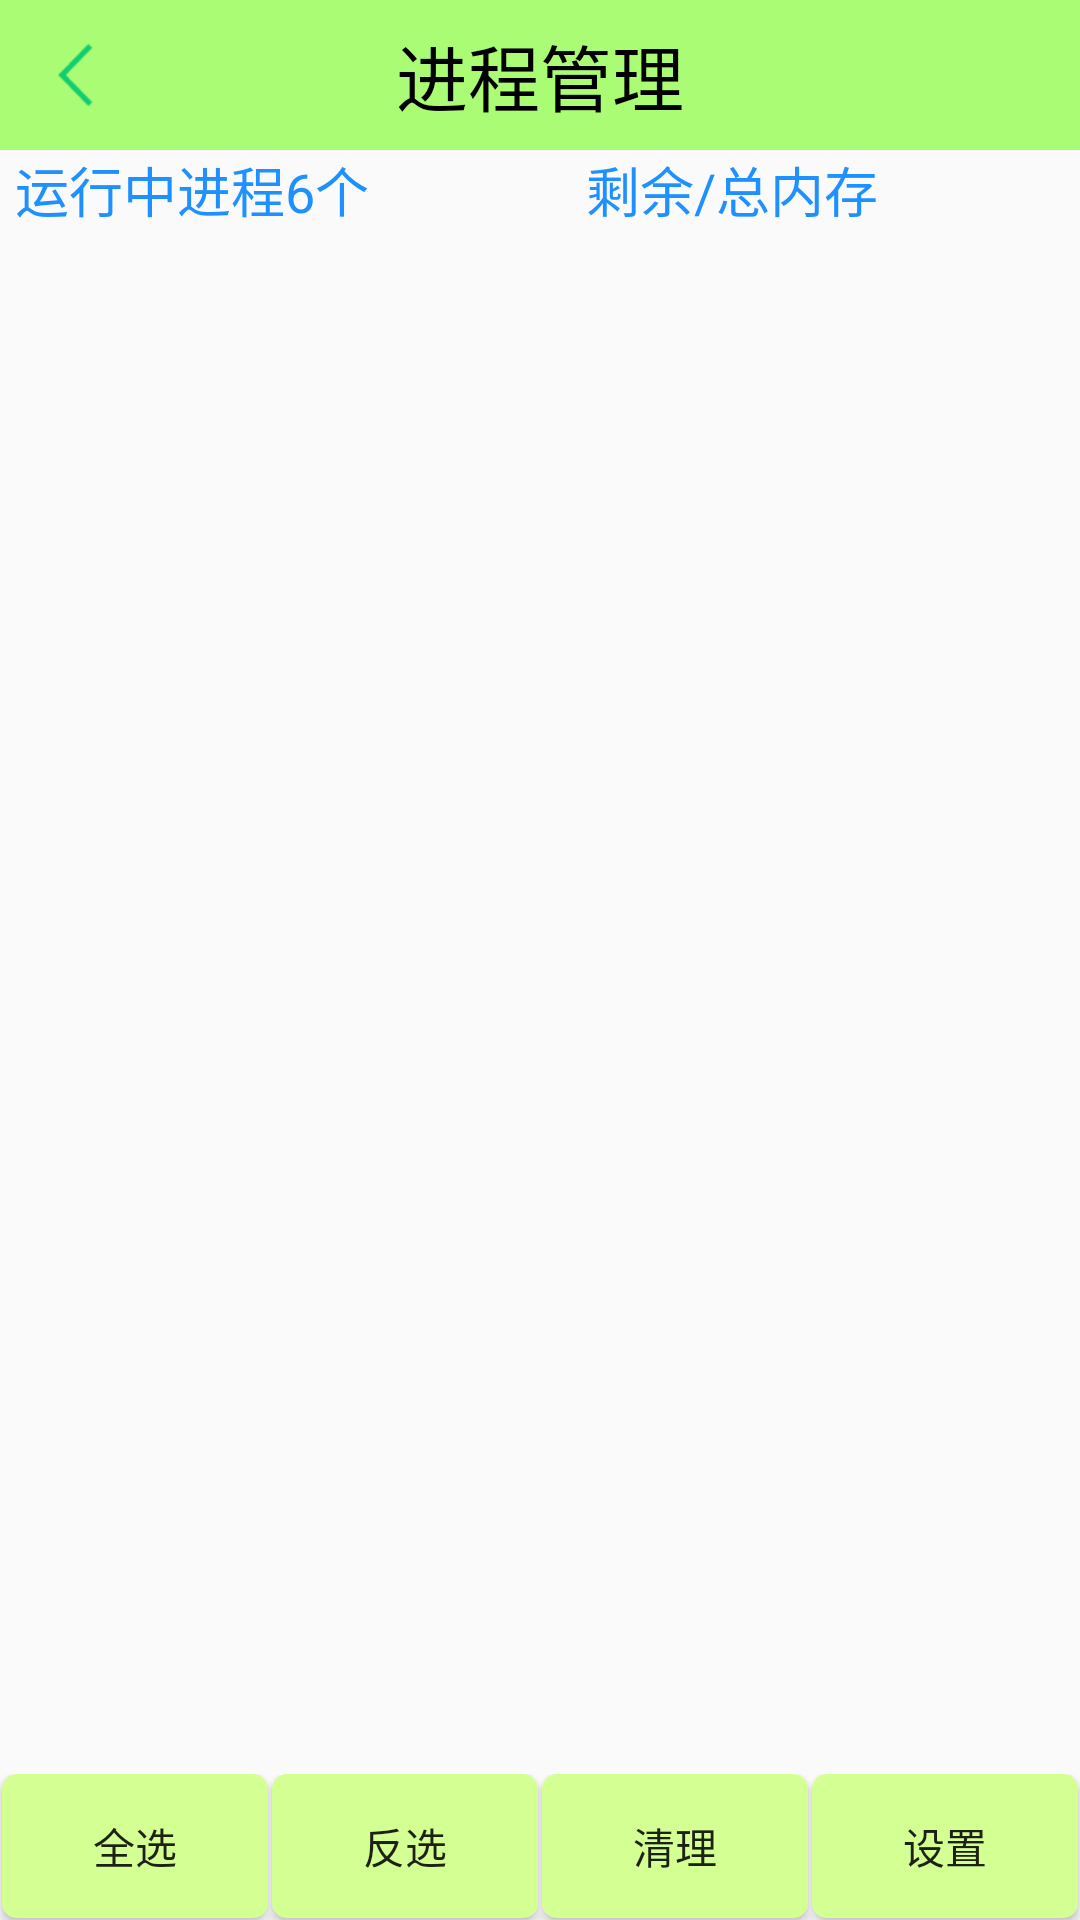

Point at icon controls on the screen. Image size 1080*1920, points as point (x, y).
back: point (75, 75)
